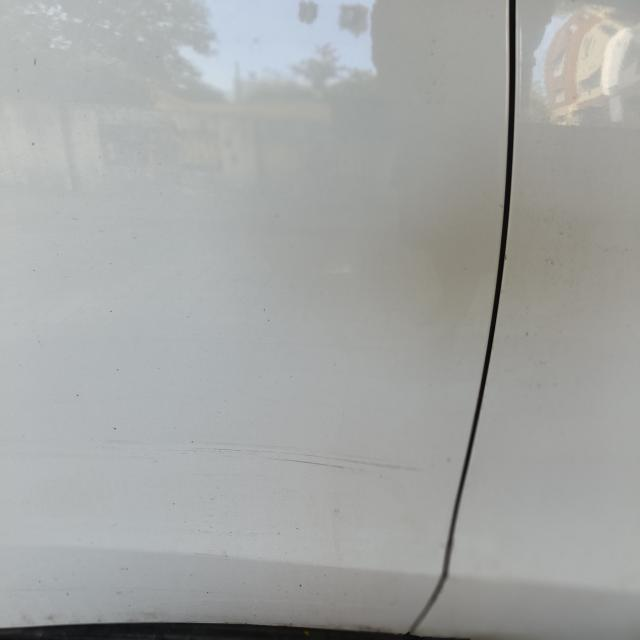scratch: (154, 440, 424, 478)
